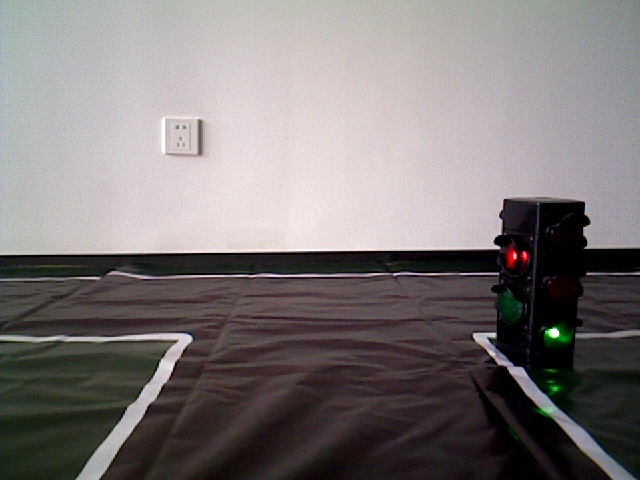green: (502, 197, 578, 359)
